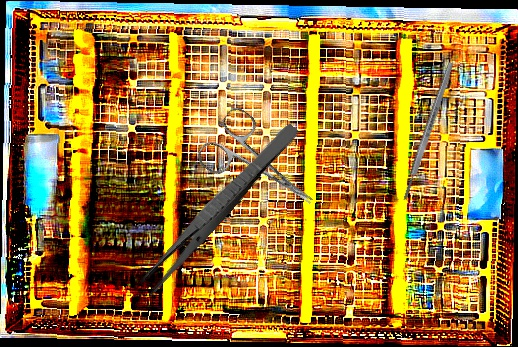Dressing Forceps: (136, 118, 302, 297)
Iris Scissors: (193, 103, 331, 232)
Scalpel Handle: (400, 60, 456, 202)
